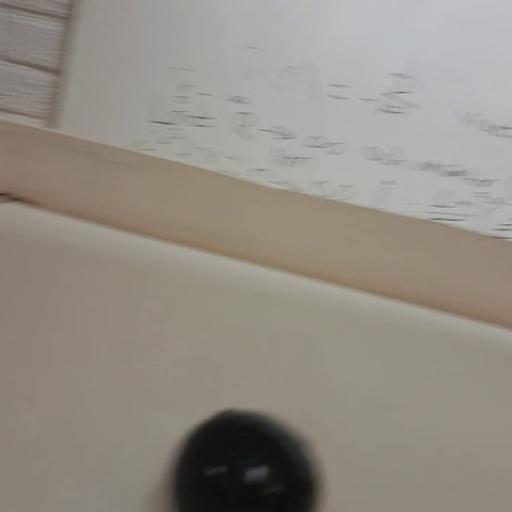dead: (166, 408, 324, 512)
